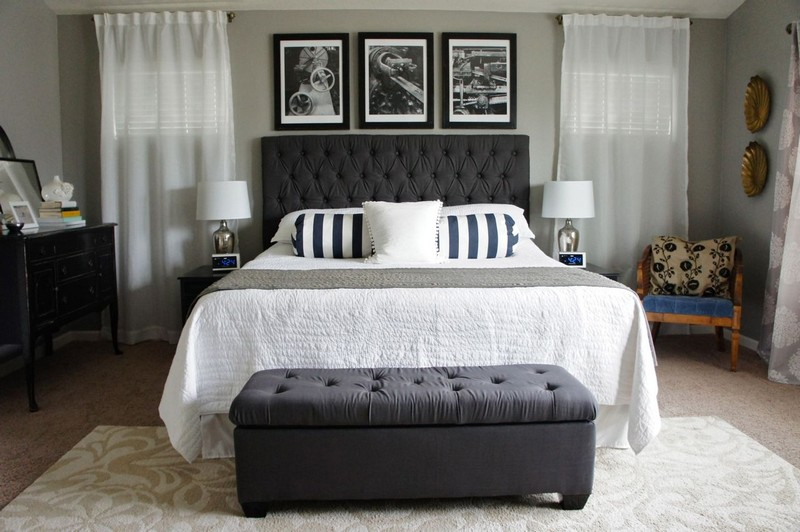bed: (183, 134, 644, 514)
chair: (639, 225, 748, 370)
lamp: (194, 178, 256, 273), (539, 179, 598, 271)
stool: (6, 233, 129, 404)
